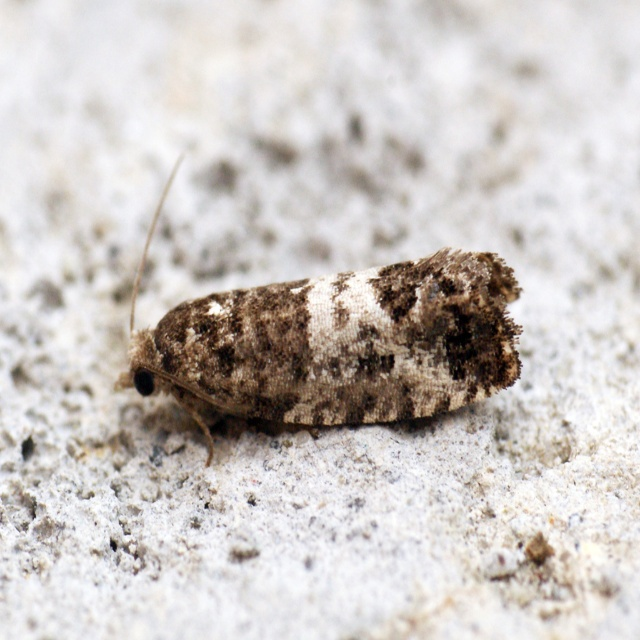Moths and butterflies: (113, 147, 527, 475)
